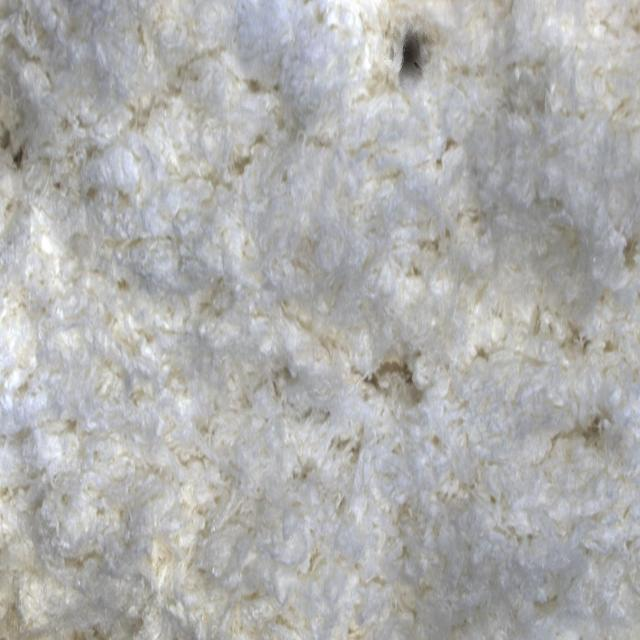dust: (376, 5, 453, 100)
